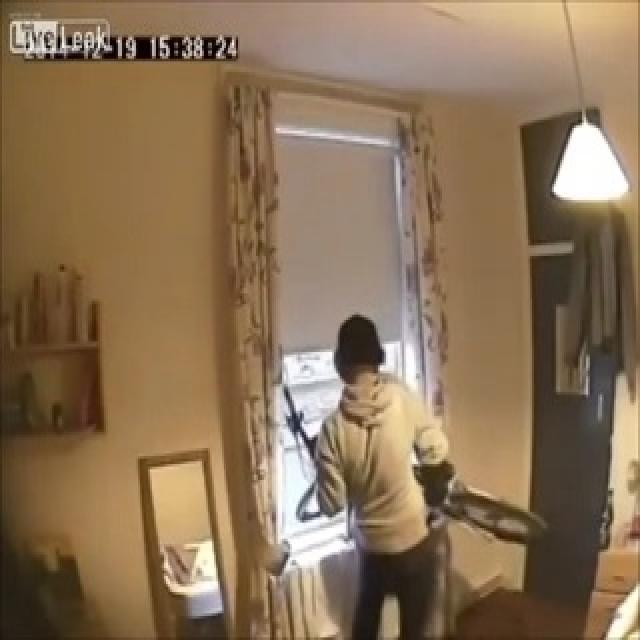thief: (310, 290, 401, 430)
